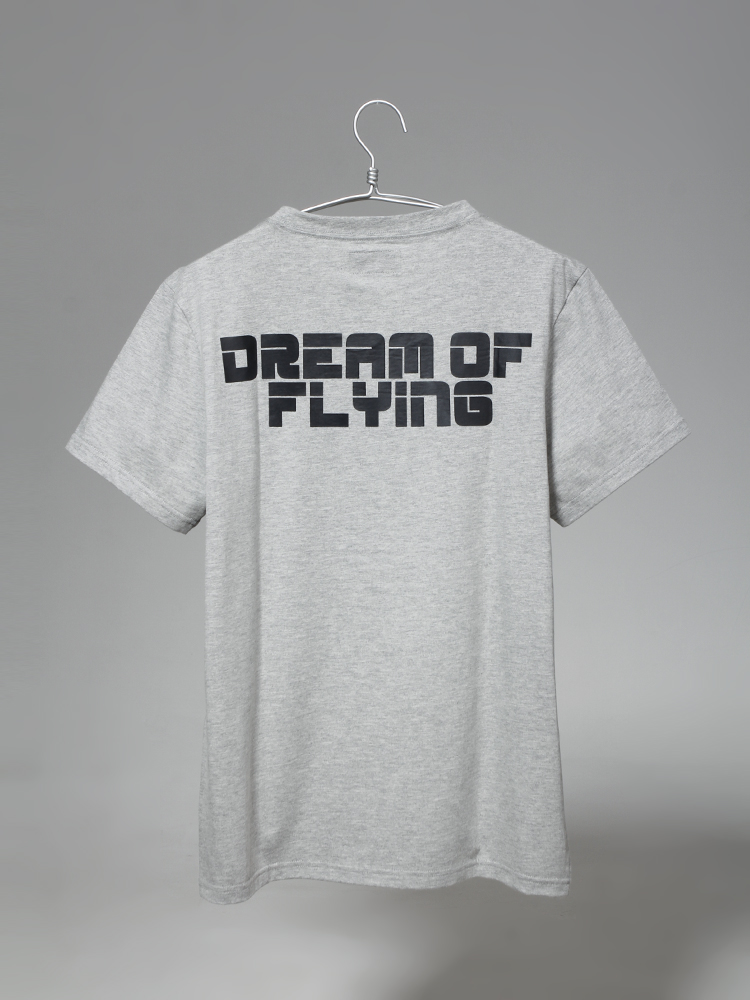flexible: (64, 187, 691, 909)
